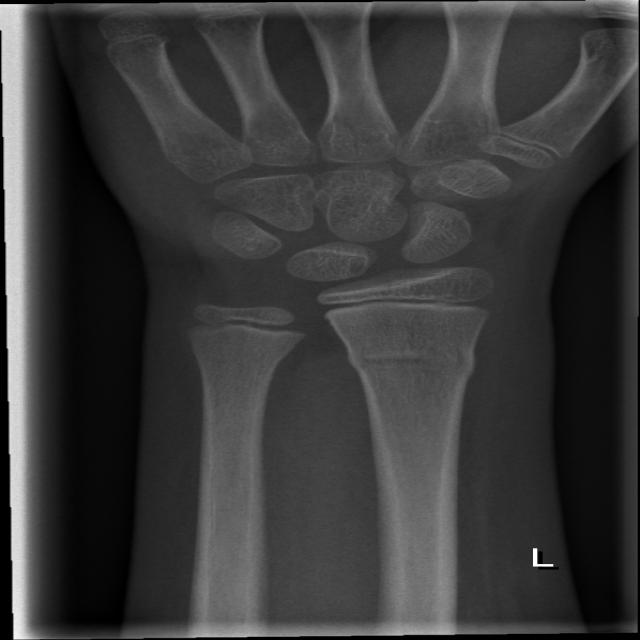radius fracture: (336, 332, 491, 412)
